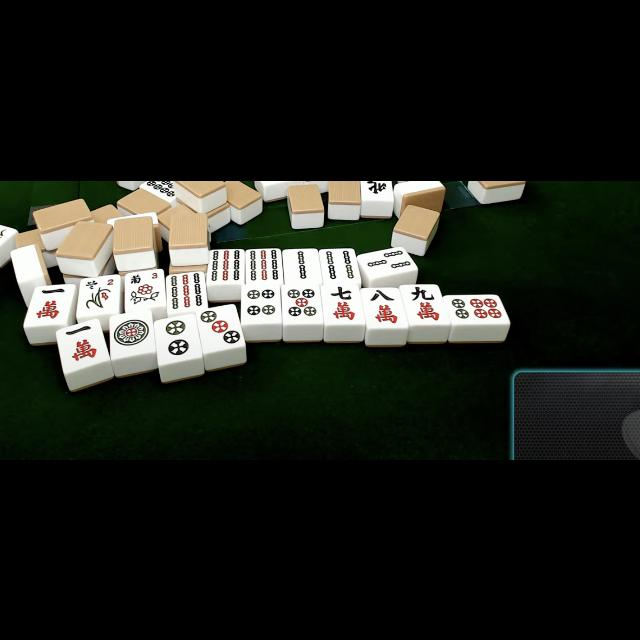b2: (286, 248, 318, 284)
b3: (364, 248, 412, 274)
b4: (322, 249, 358, 281)
b9: (167, 270, 205, 312), (246, 249, 282, 283), (208, 249, 244, 283)
c1: (62, 324, 105, 366), (30, 284, 70, 324)
c7: (323, 284, 362, 324)
c8: (364, 288, 402, 326)
c9: (406, 284, 444, 324)
d1: (111, 314, 153, 354)
d2: (156, 315, 198, 361)
d3: (198, 306, 242, 349)
d4: (242, 286, 280, 322)
d5: (284, 286, 320, 322)
d6: (446, 294, 506, 324)
f2: (80, 276, 118, 290)
f3: (124, 271, 164, 285)
wn: (362, 180, 393, 198)
